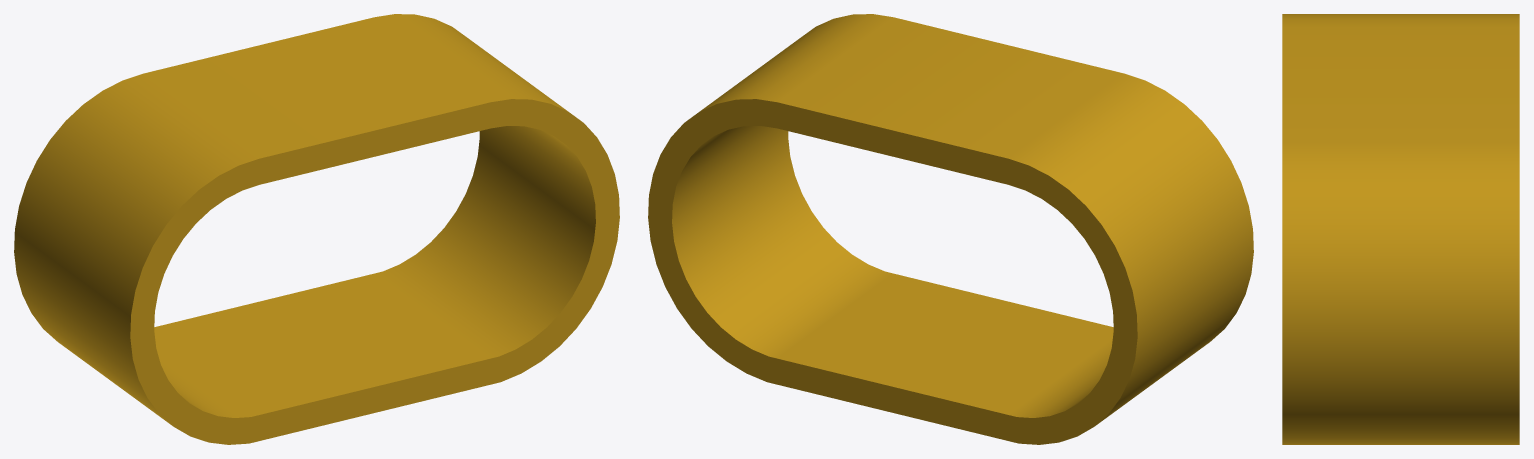
Rendered from rounded rectangle table gold.glb.
The picture shows the model from 3 angles, left to right: view 1: azimuth 30°, elevation 25°; view 2: azimuth 150°, elevation 25°; view 3: azimuth 270°, elevation 25°; orthographic projection. The views are drawn at different scales.
Parts seen in each view (by area): view 1: rounded table gold; view 2: rounded table gold; view 3: rounded table gold.
Part boxes in pixels (x1,y1,x2,y2): rounded table gold: (14,14,619,444); rounded table gold: (648,14,1253,444); rounded table gold: (1282,14,1519,444).
Bounding box in the file's own units: 1.7 × 0.9385 × 0.7.
